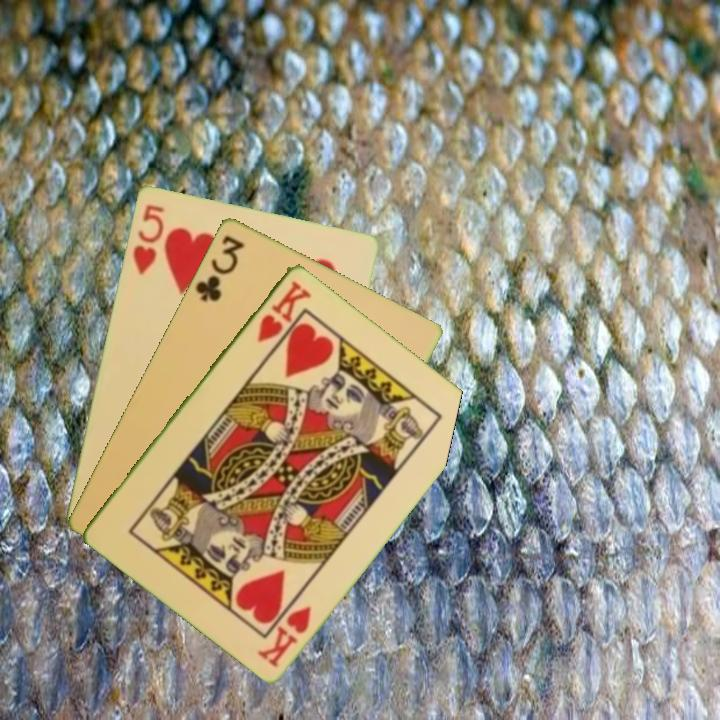3c: (191, 231, 248, 305)
5h: (129, 200, 167, 277)
Kh: (253, 276, 314, 345), (253, 601, 314, 670)
